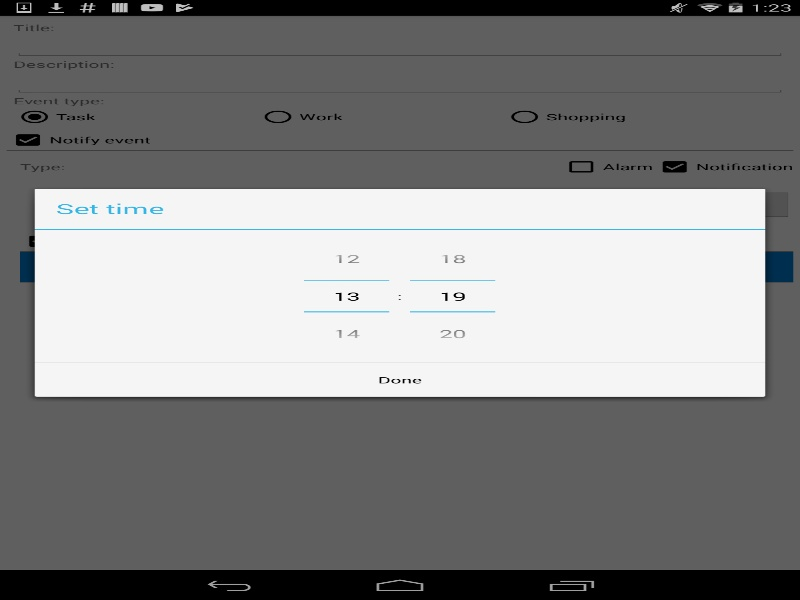Button: (34, 363, 765, 396), (409, 240, 495, 281), (409, 311, 495, 352), (304, 240, 389, 281), (304, 311, 389, 352)
Input: (409, 281, 495, 311), (304, 281, 389, 311)
